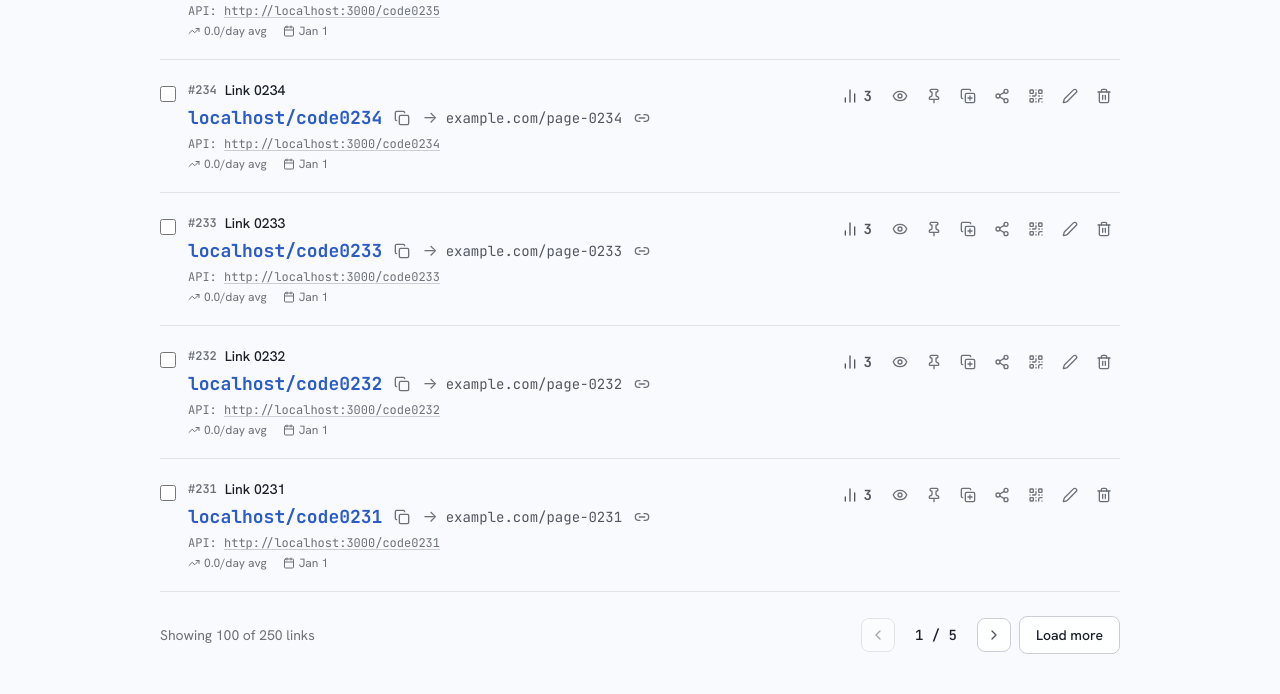
Test: Dashboard paging › loads a page at a time and appends the next one on Load more
(page scrolled)
Check: the text "Showing 100 of 250 links" is shown, box [160, 625, 315, 645]
Check: the text "1 / 5" is shown, box [915, 626, 957, 644]
What coordinates should you click on to do the following:
click the button "Load more"
I would click on:
 (1070, 635)
Its box is [1019, 616, 1120, 654].
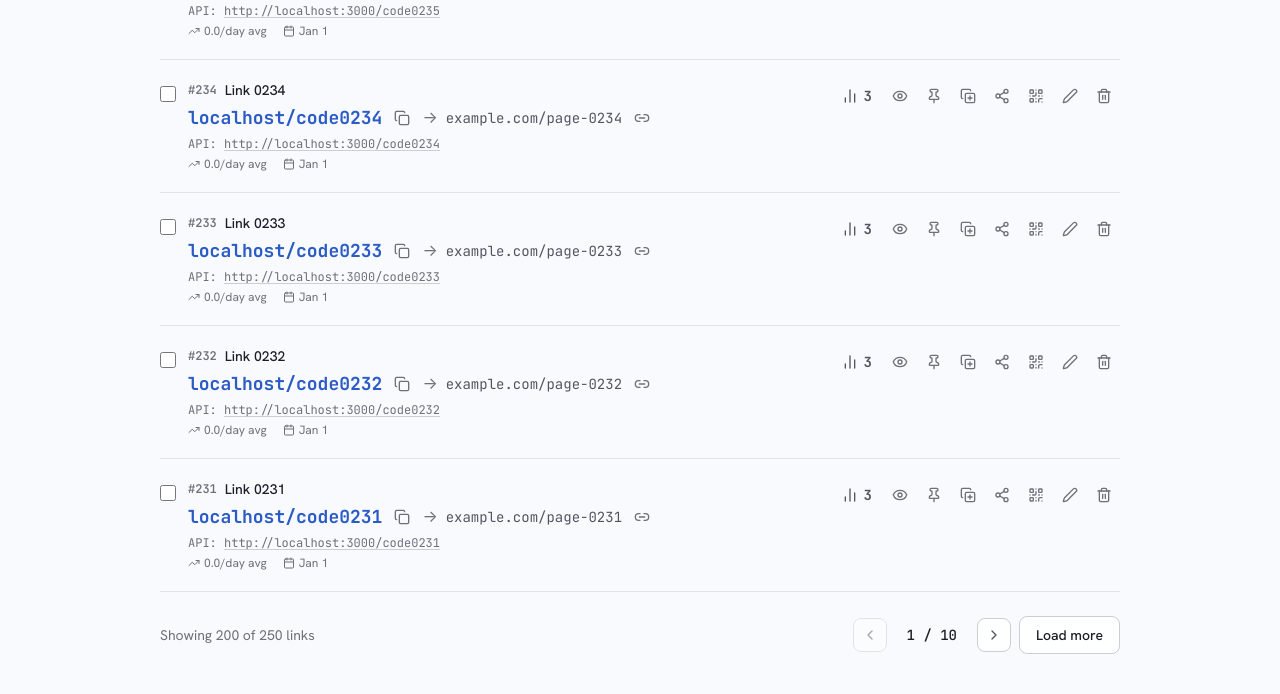
Check: the text "Showing 200 of 250 links" is shown, box [160, 625, 315, 645]
Check: the text "1 / 10" is shown, box [907, 626, 957, 644]
What coordinates should you click on to do the following:
click the button "Load more"
I would click on:
 (1070, 635)
Its box is [1019, 616, 1120, 654].
(page scrolled)
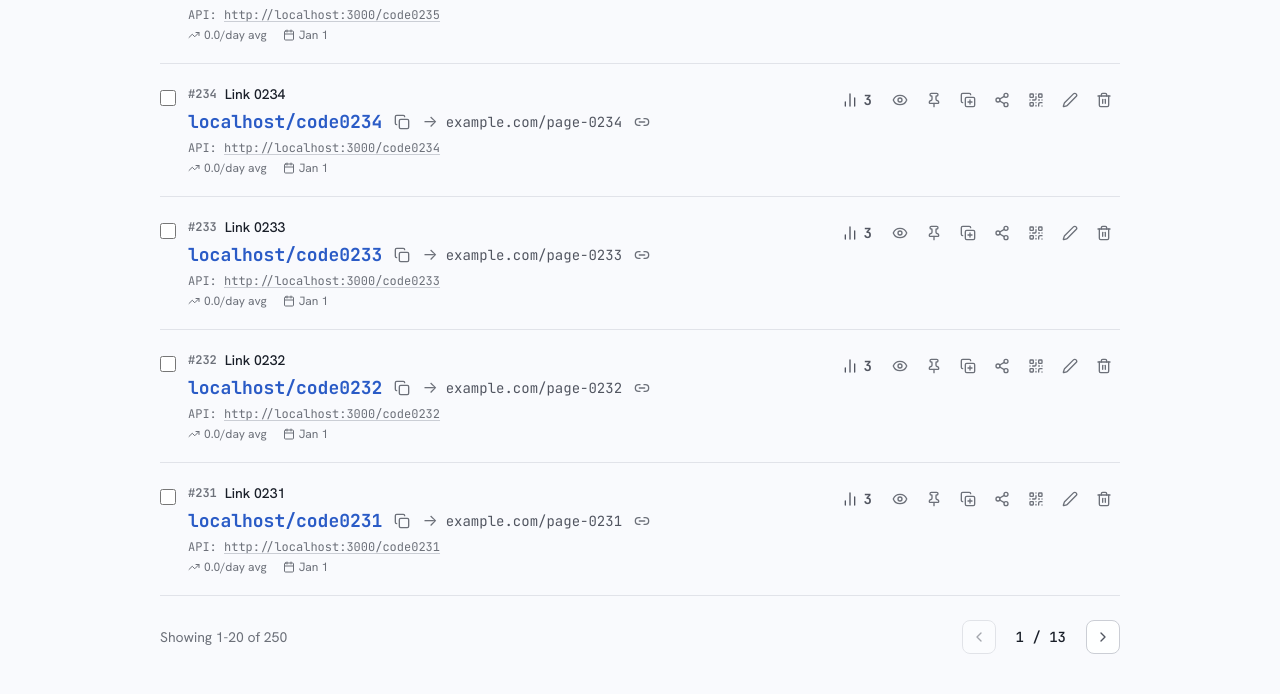
Check: the text "1 / 13" is shown, box [1016, 628, 1066, 646]
Check: the button "Load more" is gone
Check: the text "of 250 links" is gone
